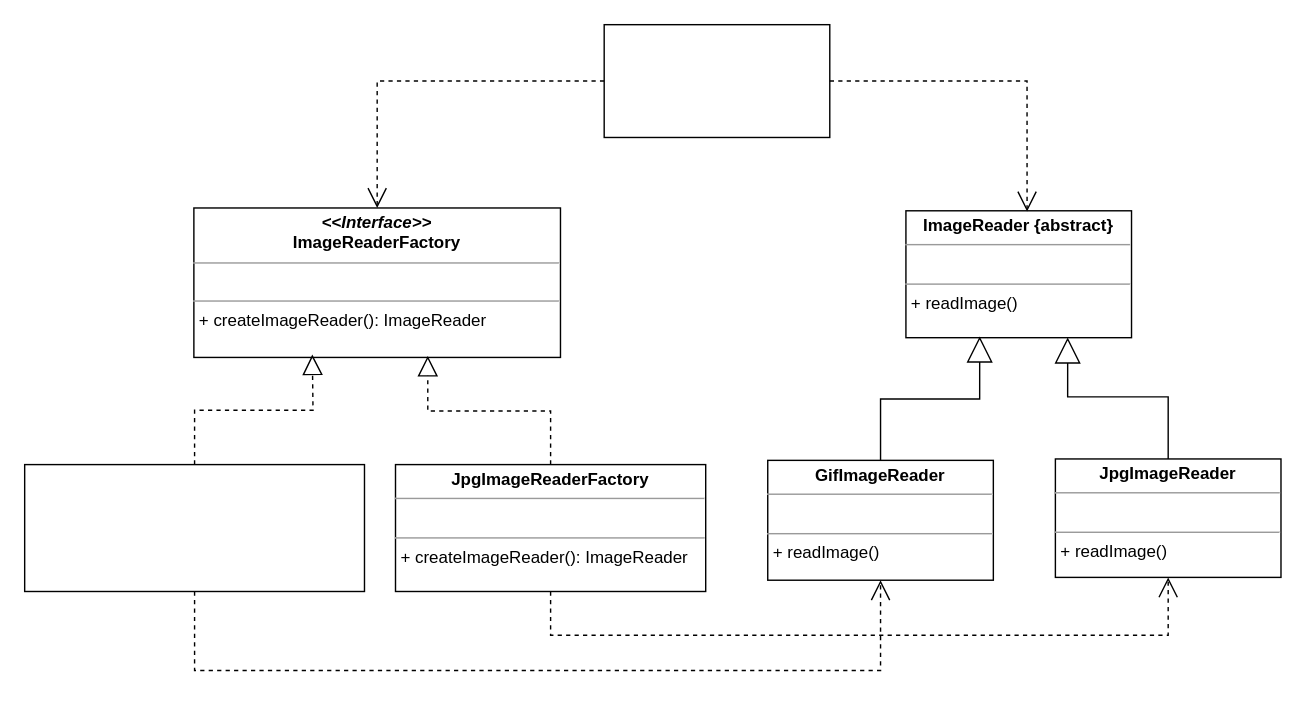
This 1306x715 diagram has some shape labels left out. Here are the shapes that lost their labels. From the top down, the box of each, then its label:
(603, 23, 830, 137): Client
(23, 463, 364, 591): GifImageReaderFactory + createImageReader(): ImageReader
